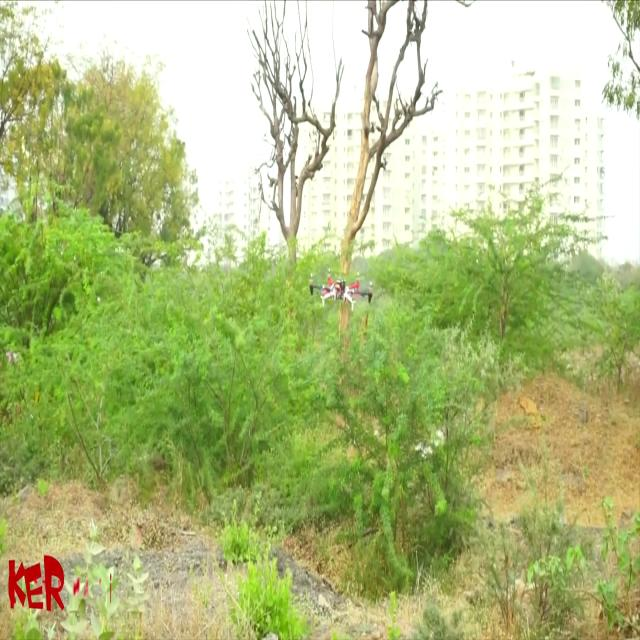drone: (293, 266, 380, 322)
